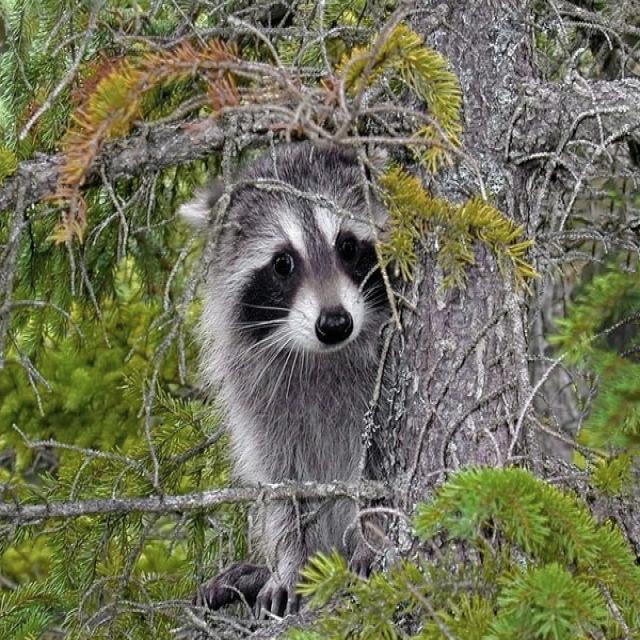raccoon: (203, 141, 389, 483)
